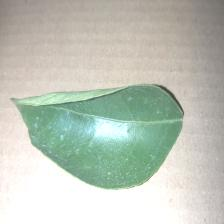healthy: (9, 77, 185, 191)
